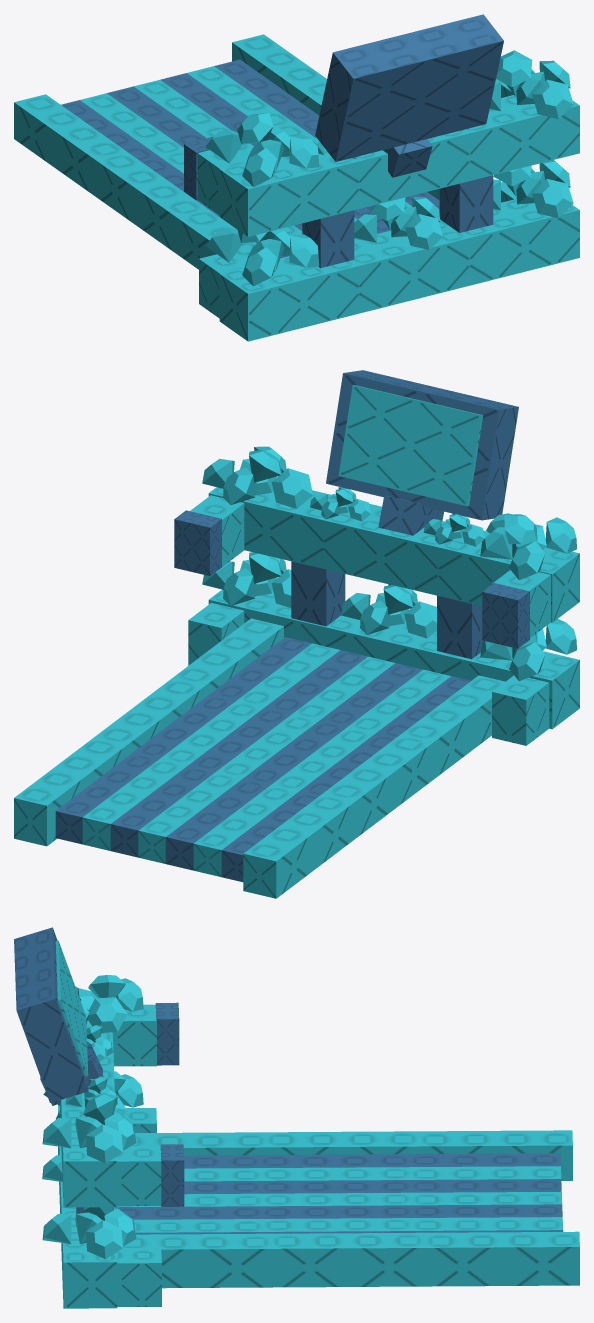
Rendered from TreadmillDiamond.fbx.
3 views of the same model, one above another, from view 1: azimuth 30°, elevation 25°; view 2: azimuth 150°, elevation 25°; view 3: azimuth 270°, elevation 25° (orthographic). The views are drawn at different scales.
Parts seen in each view (by area): view 1: TreadmillDiamond; view 2: TreadmillDiamond; view 3: TreadmillDiamond.
Boxes of the visible parts, left/top/right/bottom form: TreadmillDiamond: left=14, top=14, right=579, bottom=341; TreadmillDiamond: left=14, top=370, right=579, bottom=898; TreadmillDiamond: left=14, top=927, right=579, bottom=1308.
Bounding box in the file's own units: 2217 × 1663 × 3254.
